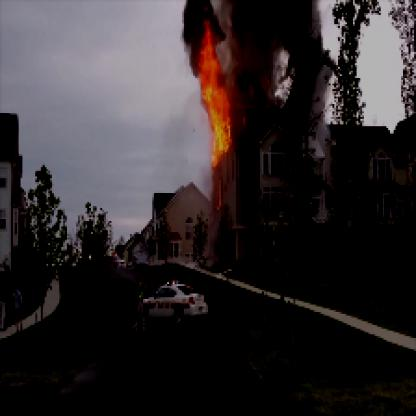Fire: (197, 15, 245, 167)
Smoke: (226, 2, 328, 141)
